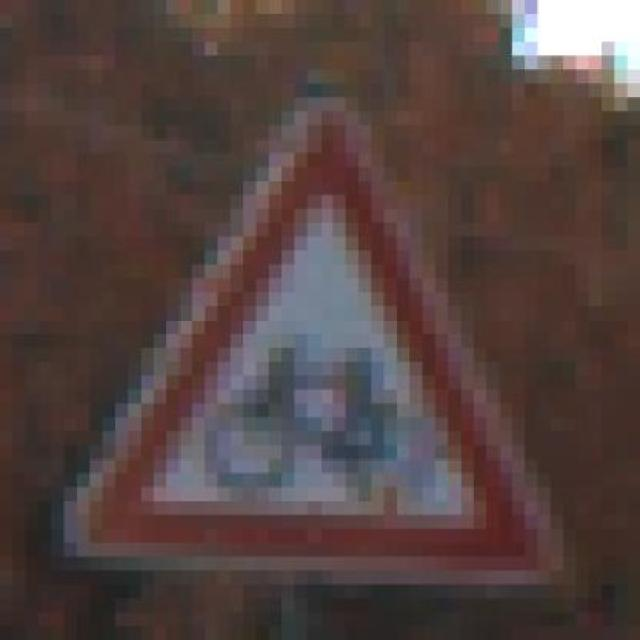CYCLE ROUTE AHEAD WARNING: (64, 70, 576, 598)
